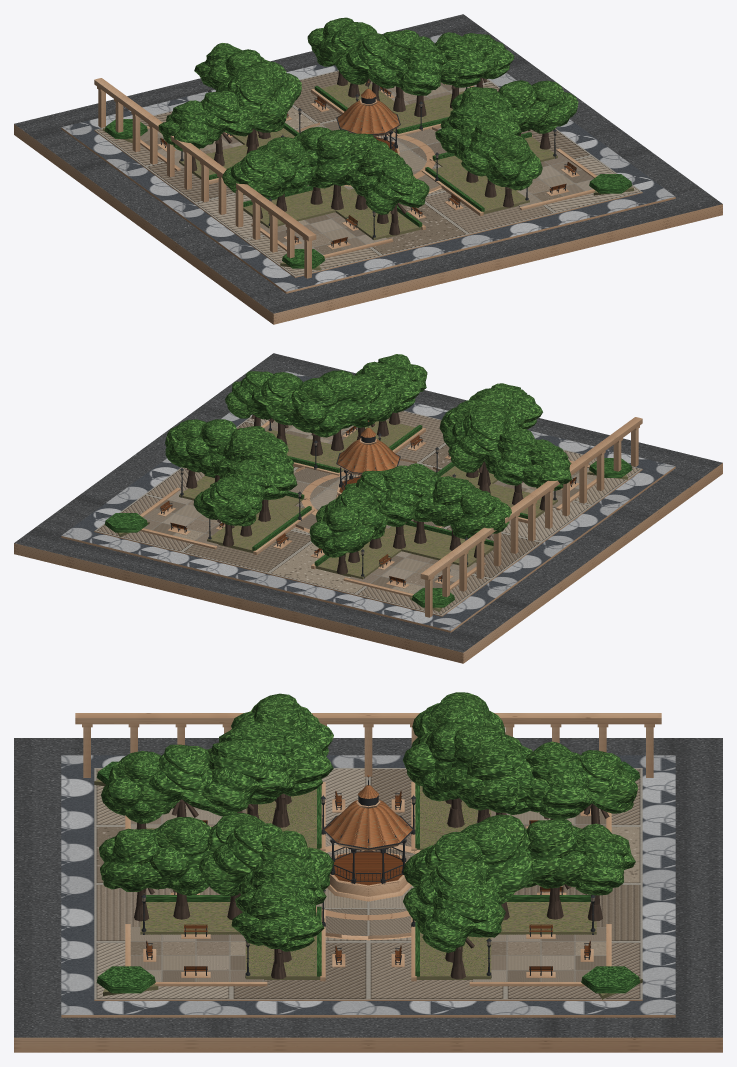
The model's file is plaza_plano_maestro.obj.
3 views of the same model, one above another, from view 1: azimuth 30°, elevation 25°; view 2: azimuth 150°, elevation 25°; view 3: azimuth 270°, elevation 25° (orthographic). The views are drawn at different scales.
Visible parts, largest first — view 1: Calle_Asfalto_Perimetral, Follaje_Laurel_2, Piso_Banqueta_Trebol, Piso_Piedra_Andadores_Patio, Plataforma_Cimentacion, Follaje_Laurel_4, Follaje_Laurel_1, Follaje_Laurel_3, Follaje_Laurel_6, Follaje_Laurel_5, Mesh_96459, Terraza_Piedra_Patio_Noroeste (+18 smaller); view 2: Calle_Asfalto_Perimetral, Follaje_Laurel_2, Piso_Banqueta_Trebol, Piso_Piedra_Andadores_Patio, Plataforma_Cimentacion, Follaje_Laurel_4, Follaje_Laurel_1, Follaje_Laurel_3, Follaje_Laurel_6, Follaje_Laurel_5, Mesh_96459, Terraza_Piedra_Patio_Suroeste (+17 smaller); view 3: Calle_Asfalto_Perimetral, Follaje_Laurel_2, Piso_Banqueta_Trebol, Piso_Piedra_Andadores_Patio, Follaje_Laurel_4, Plataforma_Cimentacion, Follaje_Laurel_1, Follaje_Laurel_3, Follaje_Laurel_6, Mesh_96459, Follaje_Laurel_5, Terraza_Piedra_Patio_Noreste (+21 smaller).
Boxes of the visible parts, box(x1,y1,x2,y2) form: Calle_Asfalto_Perimetral: box(14, 14, 722, 313); Follaje_Laurel_2: box(173, 17, 563, 185); Piso_Banqueta_Trebol: box(61, 34, 675, 291); Piso_Piedra_Andadores_Patio: box(95, 70, 641, 276); Plataforma_Cimentacion: box(14, 124, 722, 324); Follaje_Laurel_4: box(174, 30, 521, 211); Follaje_Laurel_1: box(170, 30, 566, 195); Follaje_Laurel_3: box(208, 28, 528, 207); Follaje_Laurel_6: box(158, 56, 578, 193); Follaje_Laurel_5: box(166, 55, 570, 196); Mesh_96459: box(94, 78, 316, 241); Terraza_Piedra_Patio_Noroeste: box(260, 212, 387, 254); Calle_Asfalto_Perimetral: box(14, 353, 722, 652); Follaje_Laurel_2: box(174, 354, 562, 531); Piso_Banqueta_Trebol: box(61, 371, 675, 630); Piso_Piedra_Andadores_Patio: box(95, 410, 641, 615); Plataforma_Cimentacion: box(14, 463, 722, 663); Follaje_Laurel_4: box(165, 372, 571, 521); Follaje_Laurel_1: box(168, 367, 568, 538); Follaje_Laurel_3: box(165, 364, 570, 548); Follaje_Laurel_6: box(210, 381, 544, 545); Follaje_Laurel_5: box(209, 401, 520, 552); Mesh_96459: box(420, 417, 642, 580); Terraza_Piedra_Patio_Suroeste: box(349, 551, 476, 593); Calle_Asfalto_Perimetral: box(14, 738, 722, 1037); Follaje_Laurel_2: box(113, 692, 624, 909); Piso_Banqueta_Trebol: box(61, 755, 675, 1014); Piso_Piedra_Andadores_Patio: box(94, 768, 642, 999); Follaje_Laurel_4: box(140, 703, 626, 948); Plataforma_Cimentacion: box(14, 1037, 722, 1052); Follaje_Laurel_1: box(108, 702, 628, 923); Follaje_Laurel_3: box(99, 711, 637, 937); Follaje_Laurel_6: box(131, 717, 587, 948); Mesh_96459: box(75, 713, 661, 724); Follaje_Laurel_5: box(101, 710, 634, 945); Terraza_Piedra_Patio_Noreste: box(130, 927, 263, 981).
Bounding box in the file's own units: 60 × 11.93 × 60.
13 materials, 13 textured.
